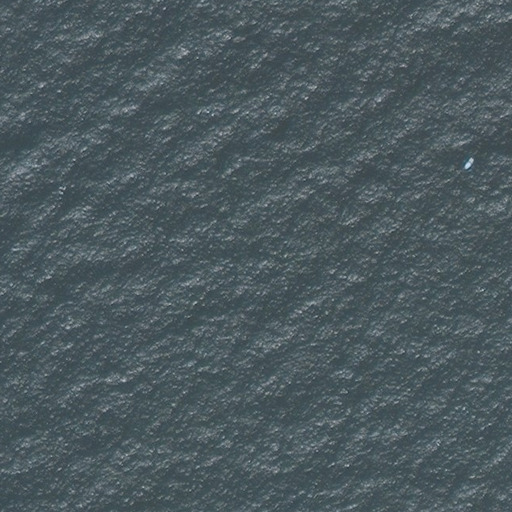ship: (462, 154, 476, 173)
